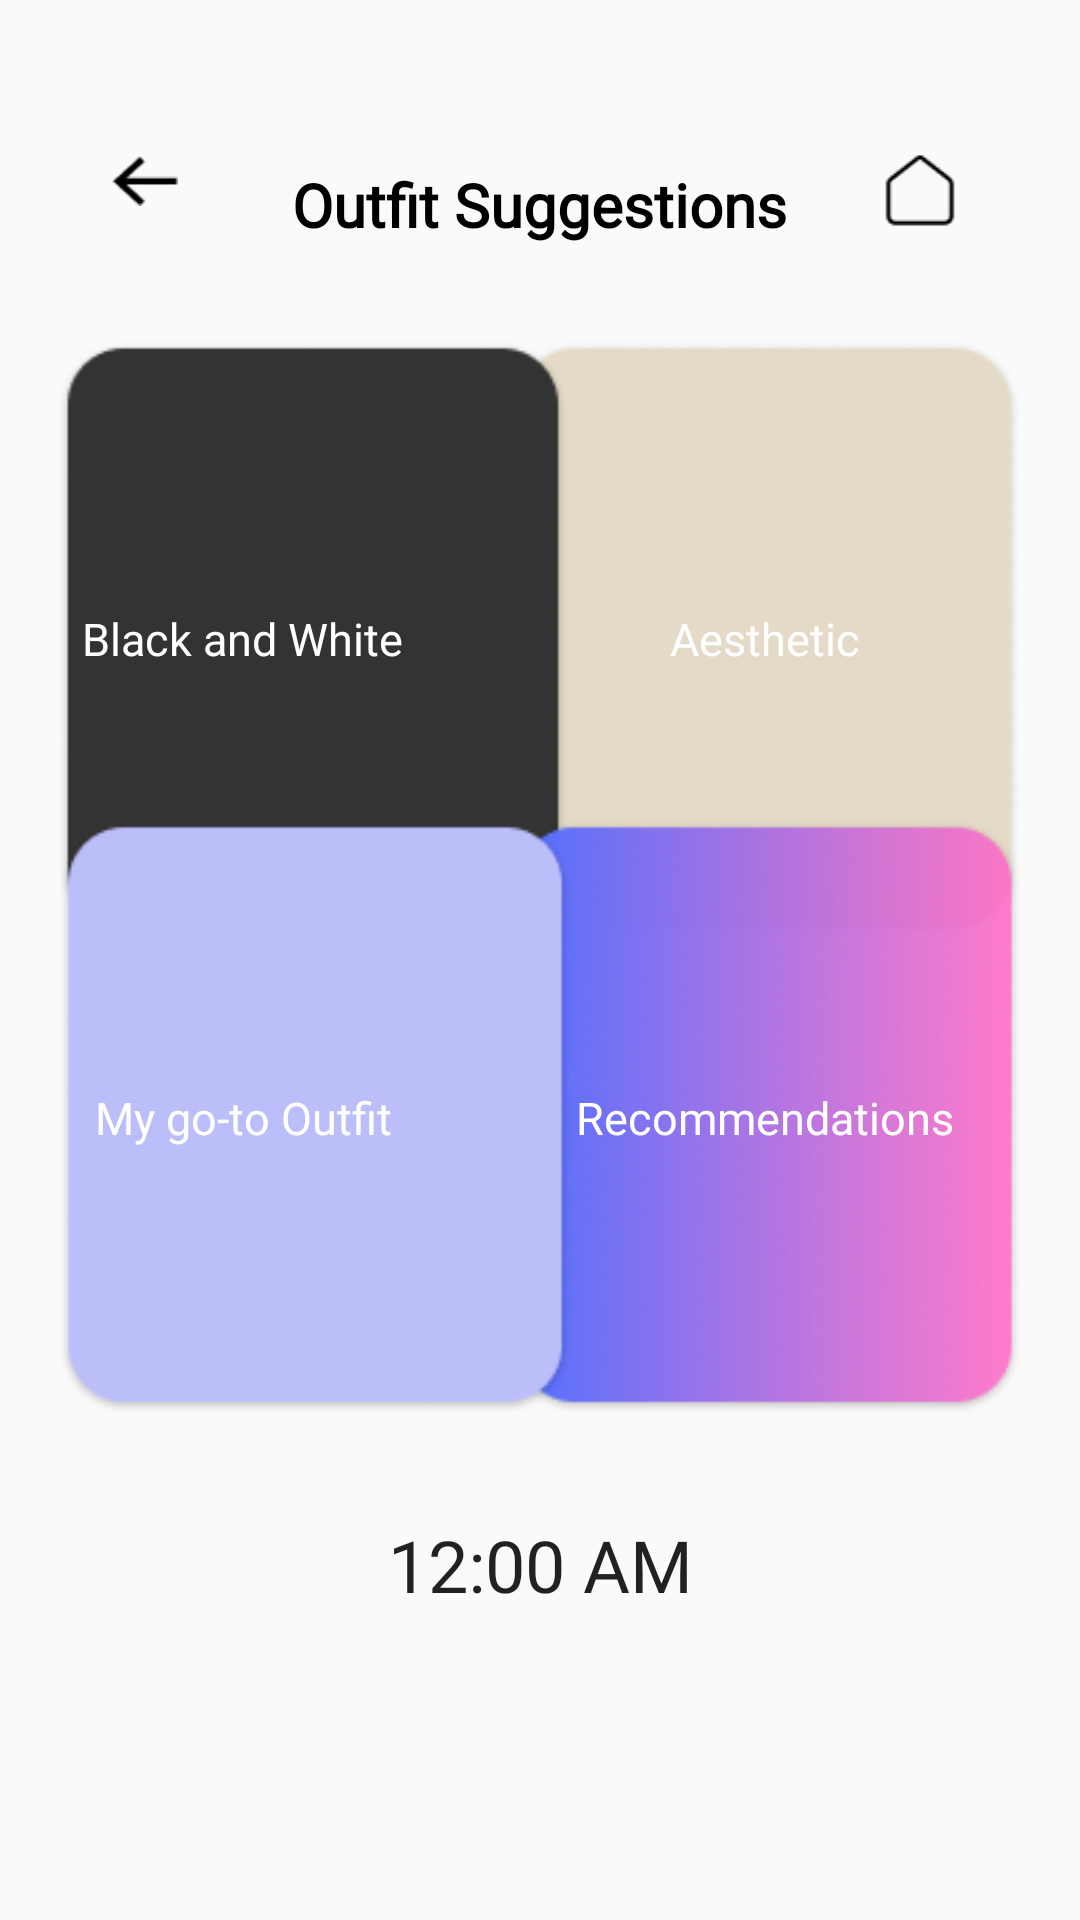

Locate icon controls on the screen. Image size 1080 x 1920, boxes as bbox=[x1, y1, x2, y2].
back: bbox=[112, 157, 178, 206]
homepageicon: bbox=[885, 155, 955, 226]
